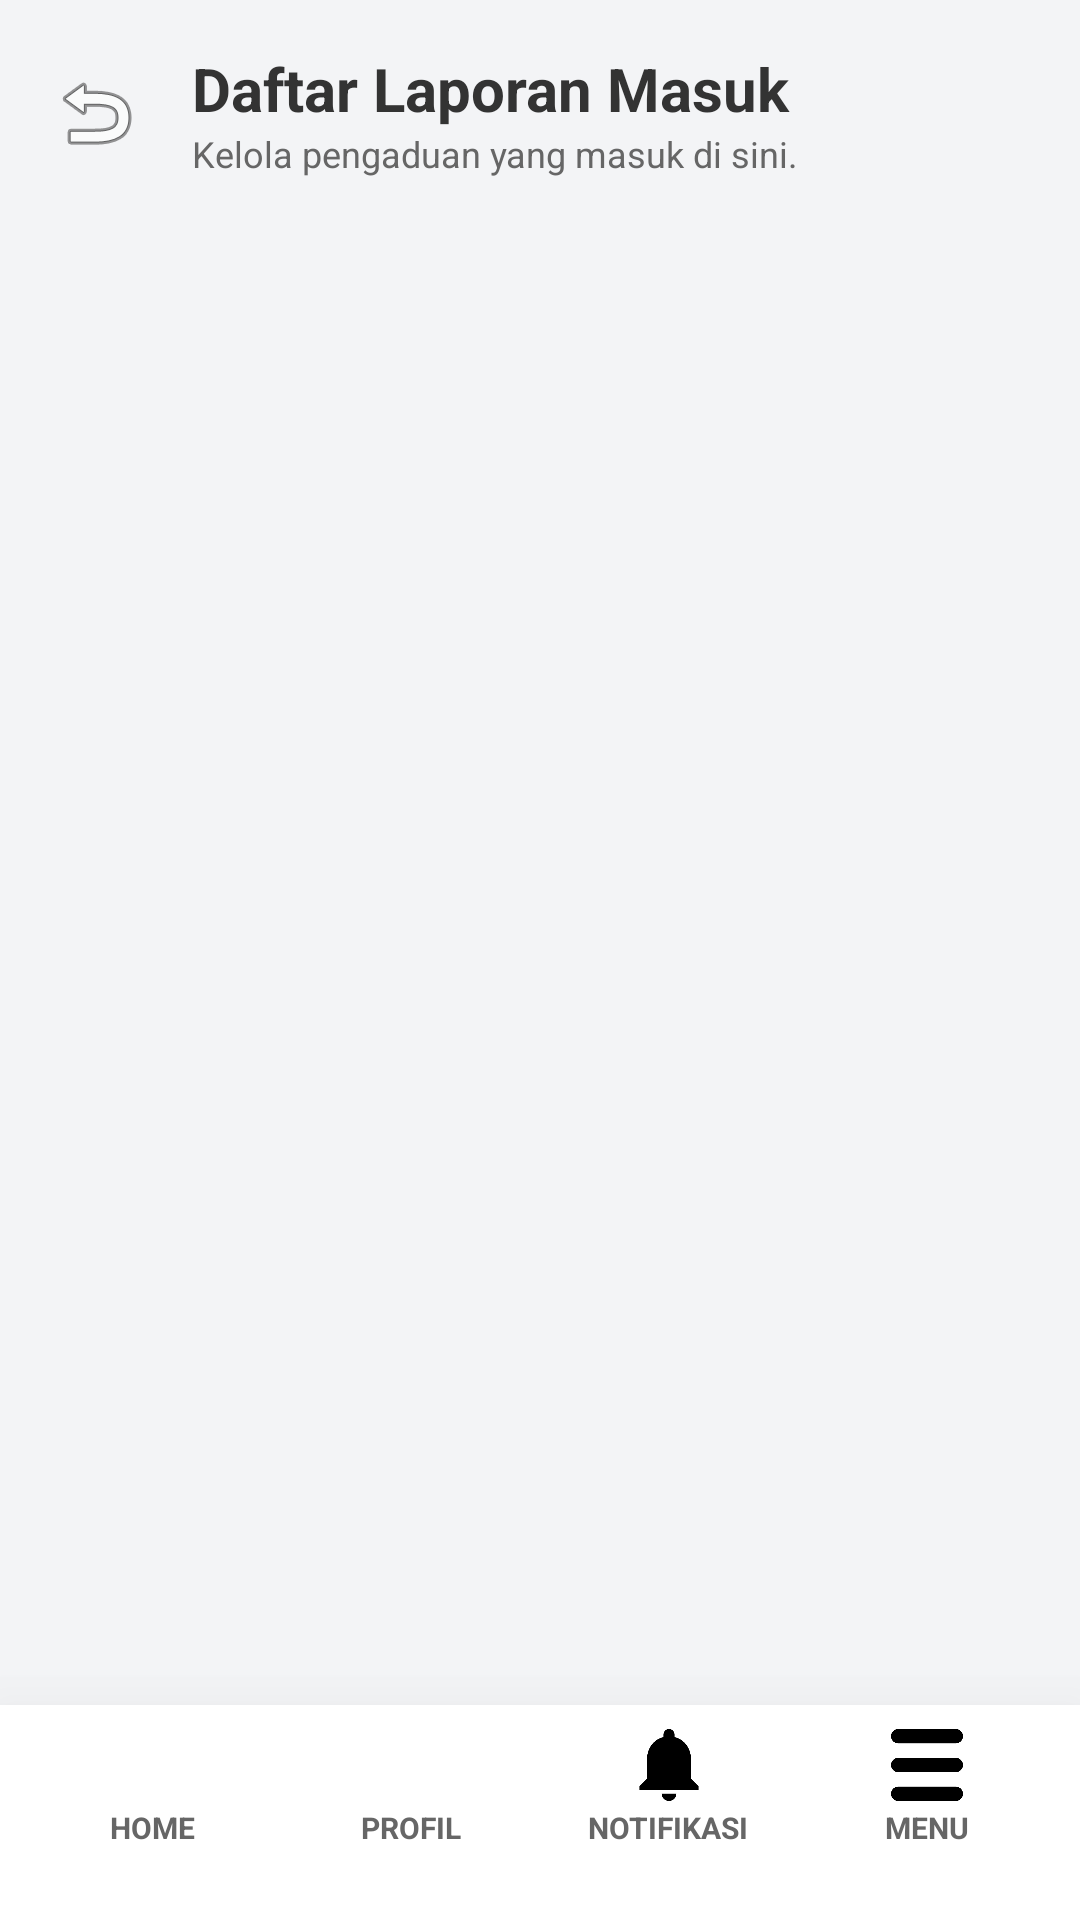

Icons on this 1080×1920 Android screen, each with its box as region(x1, y1, x2, y2):
revert: region(63, 82, 132, 145)
